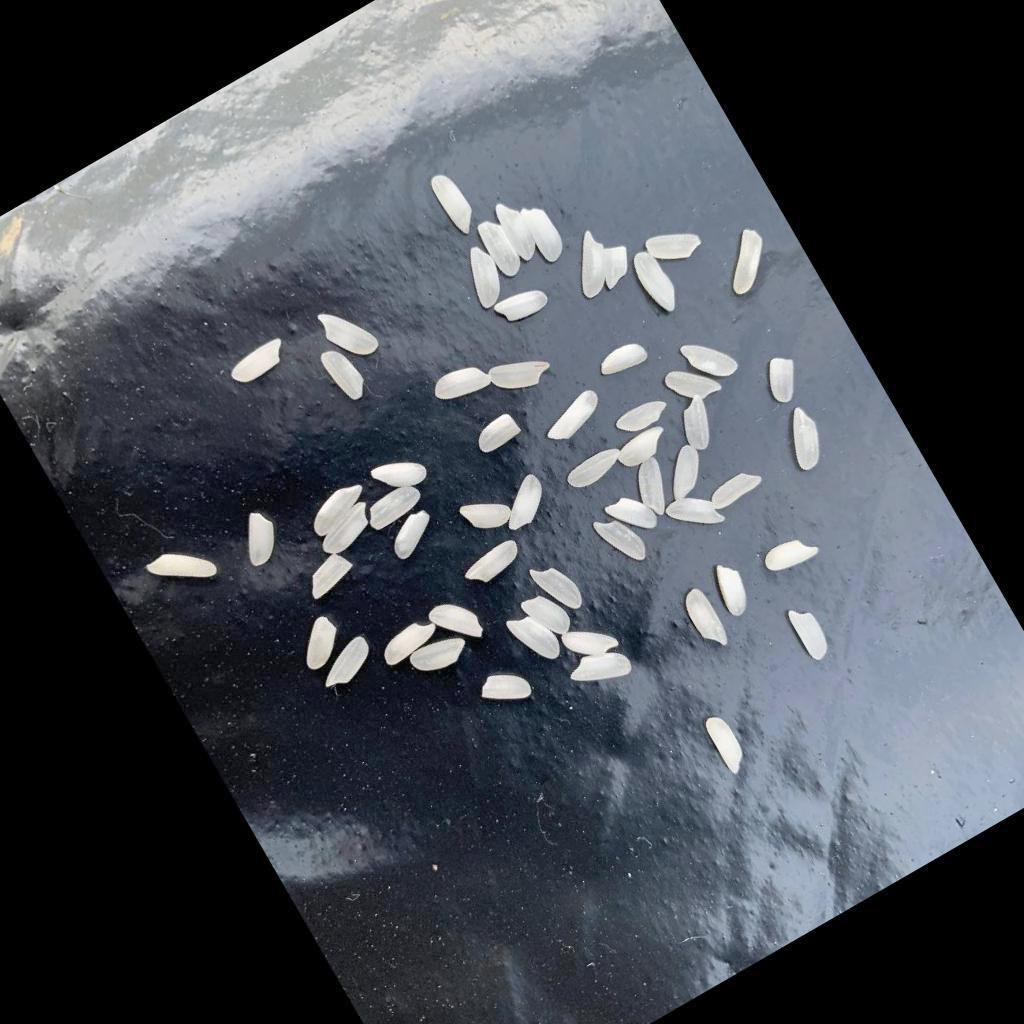rice: (712, 226, 782, 298), (147, 535, 221, 603), (315, 296, 382, 369), (558, 228, 624, 300), (565, 638, 636, 701), (536, 387, 608, 448), (304, 480, 375, 540), (487, 343, 556, 404), (455, 242, 515, 312), (506, 605, 567, 673), (775, 405, 835, 474), (312, 634, 380, 694), (313, 500, 382, 559), (492, 471, 556, 534), (628, 248, 684, 319), (679, 328, 741, 392), (529, 555, 588, 622), (592, 508, 651, 574), (426, 592, 487, 655), (653, 443, 714, 505), (664, 485, 727, 545), (428, 170, 482, 239), (662, 354, 724, 414), (627, 455, 684, 520), (679, 585, 732, 654), (231, 506, 289, 569), (460, 538, 527, 592), (643, 217, 705, 275), (430, 357, 495, 412), (408, 627, 473, 682), (376, 613, 442, 667), (290, 613, 349, 673), (670, 393, 726, 456), (519, 200, 571, 267), (491, 198, 543, 265), (370, 447, 432, 503), (474, 215, 526, 281), (227, 337, 292, 389), (475, 661, 535, 717), (520, 587, 576, 647), (561, 614, 621, 670), (319, 344, 372, 407), (363, 481, 426, 533), (605, 489, 662, 546), (299, 549, 360, 602), (703, 713, 753, 777), (564, 445, 628, 495), (460, 487, 517, 542), (385, 508, 443, 562), (787, 602, 836, 665), (708, 559, 758, 619), (761, 530, 820, 579), (614, 424, 673, 473), (494, 281, 552, 330), (759, 352, 810, 407), (614, 394, 672, 441), (707, 466, 765, 512), (591, 241, 641, 292), (596, 338, 651, 384), (472, 412, 524, 458)
